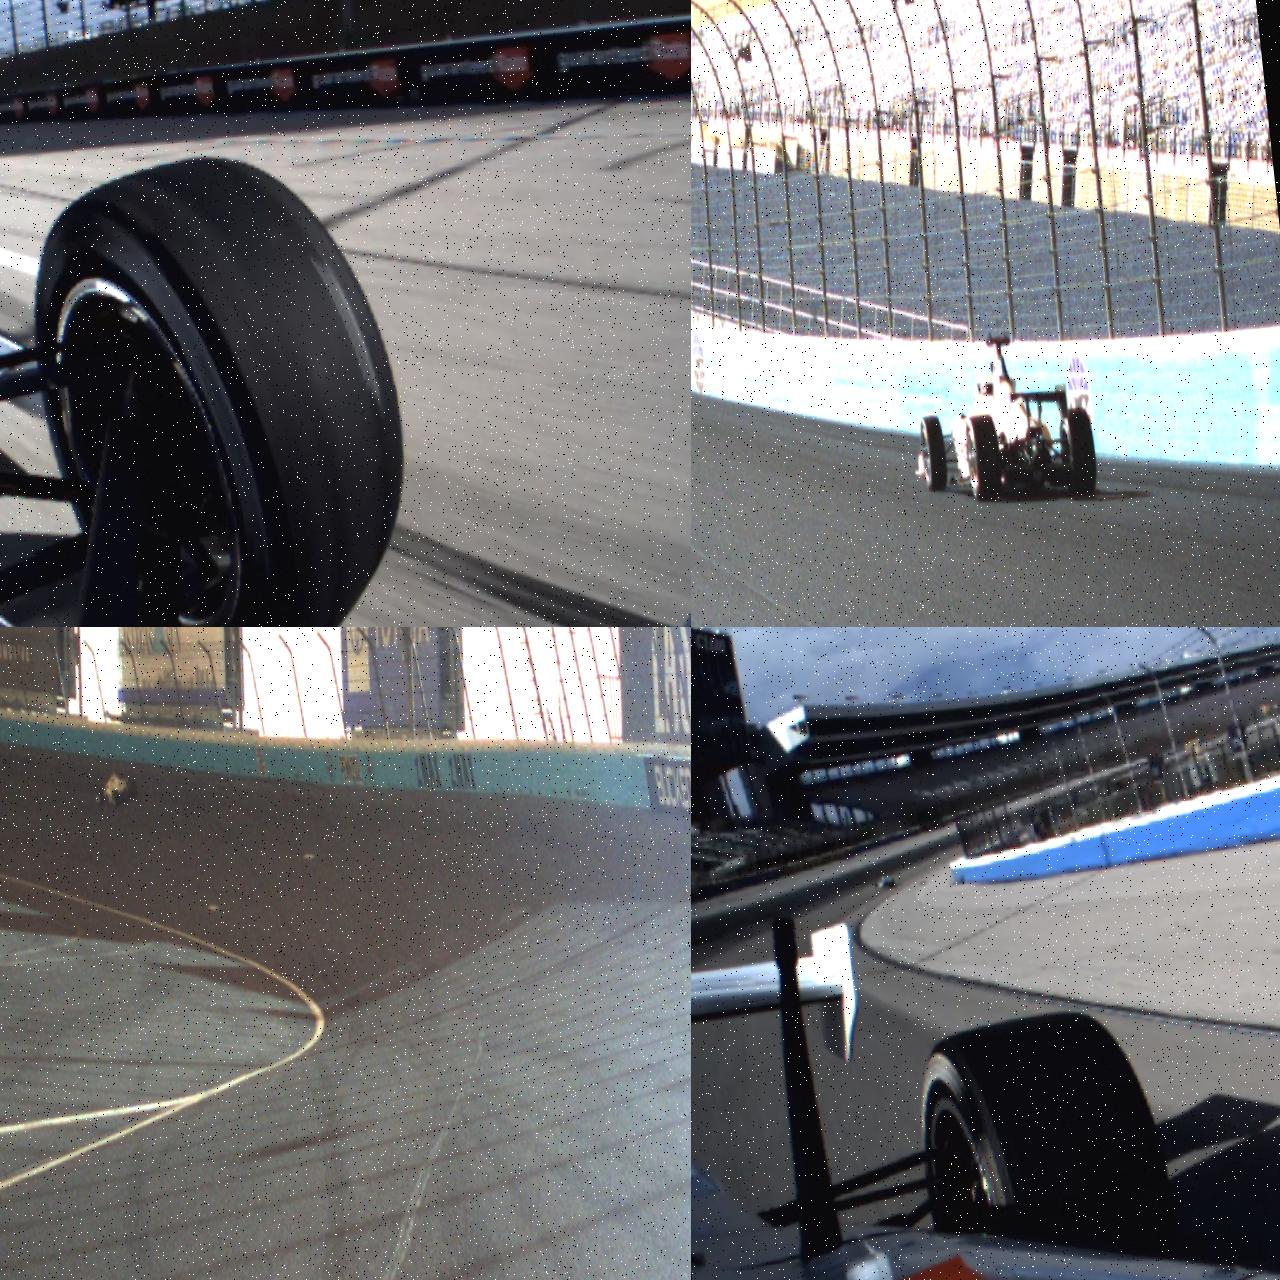AV: (901, 322, 1101, 515), (93, 765, 138, 809), (873, 873, 897, 891)
Wheel: (19, 137, 425, 627), (907, 1005, 1178, 1280), (1056, 406, 1099, 498), (962, 414, 1003, 502), (919, 414, 949, 492), (111, 789, 121, 806), (129, 777, 136, 796), (97, 788, 104, 804)
